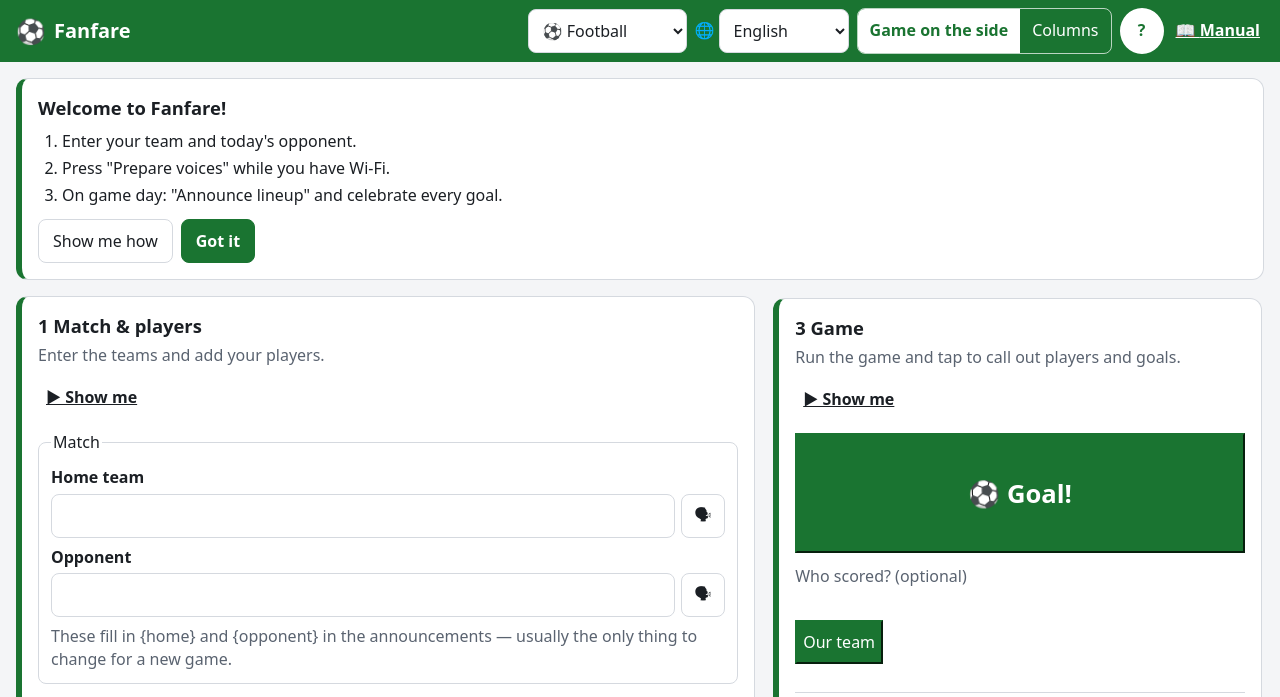
the switch changes and remembers the layout
Click the button "Columns". click: click(1065, 31)
box: [1020, 9, 1110, 53]
(page scrolled)
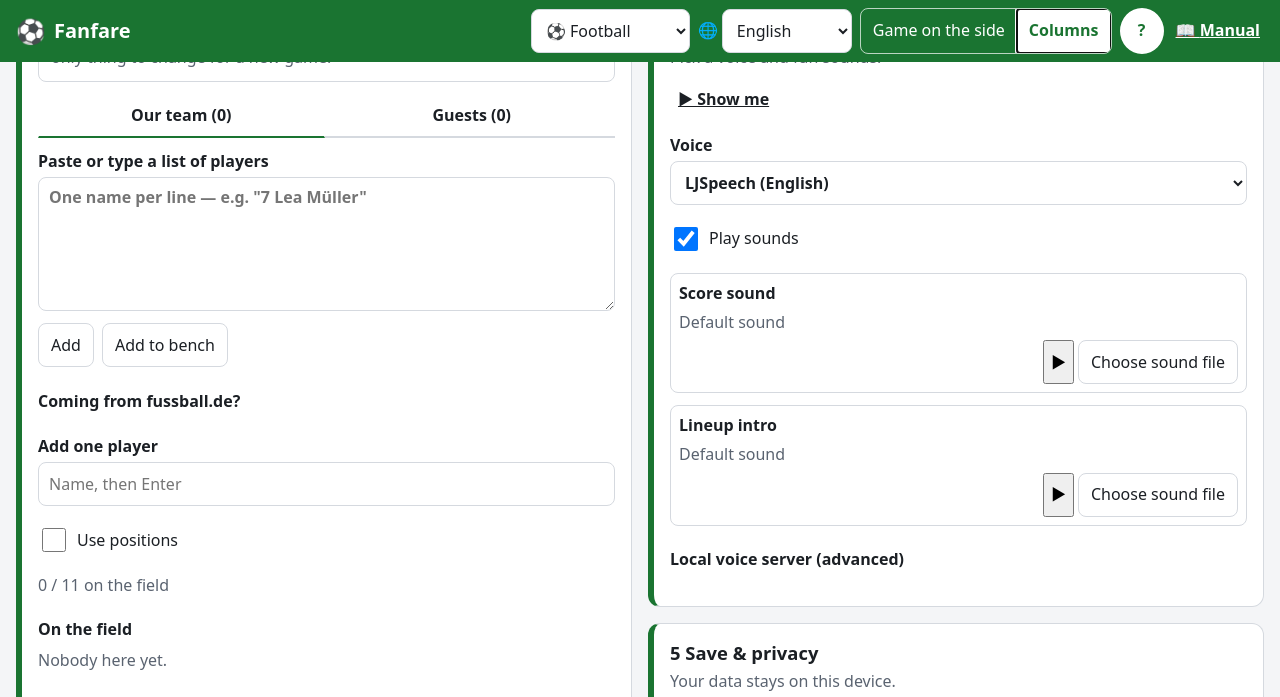
Check: the button "Columns" is pressed, box [1017, 9, 1111, 53]
